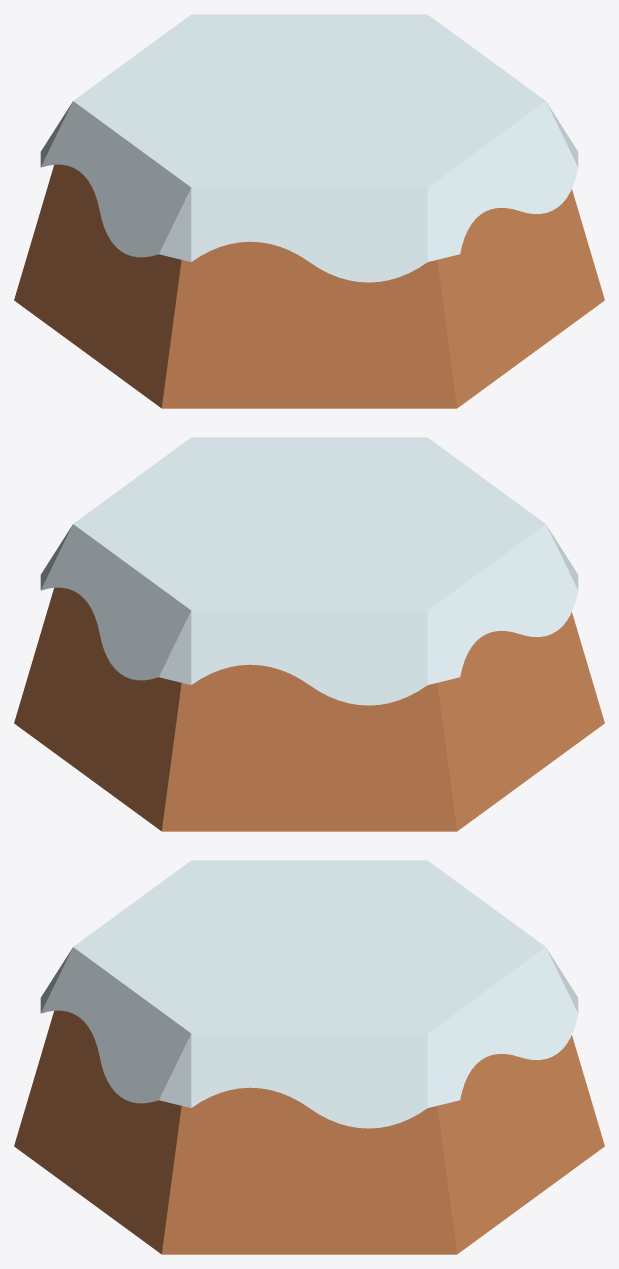
File: blockSnowHexagonLow.fbx
The picture shows the model from 3 angles, top to bottom: view 1: azimuth 30°, elevation 25°; view 2: azimuth 150°, elevation 25°; view 3: azimuth 270°, elevation 25°; orthographic projection.
Parts seen in each view (by area): view 1: blockSnowHexagonLow; view 2: blockSnowHexagonLow; view 3: blockSnowHexagonLow.
Boxes of the visible parts, box(x1,y1,x2,y2) form: blockSnowHexagonLow: box(14, 14, 604, 408); blockSnowHexagonLow: box(14, 437, 604, 831); blockSnowHexagonLow: box(14, 860, 604, 1254).
Size of the model in its own units: 10 by 4.3 by 11.55.
